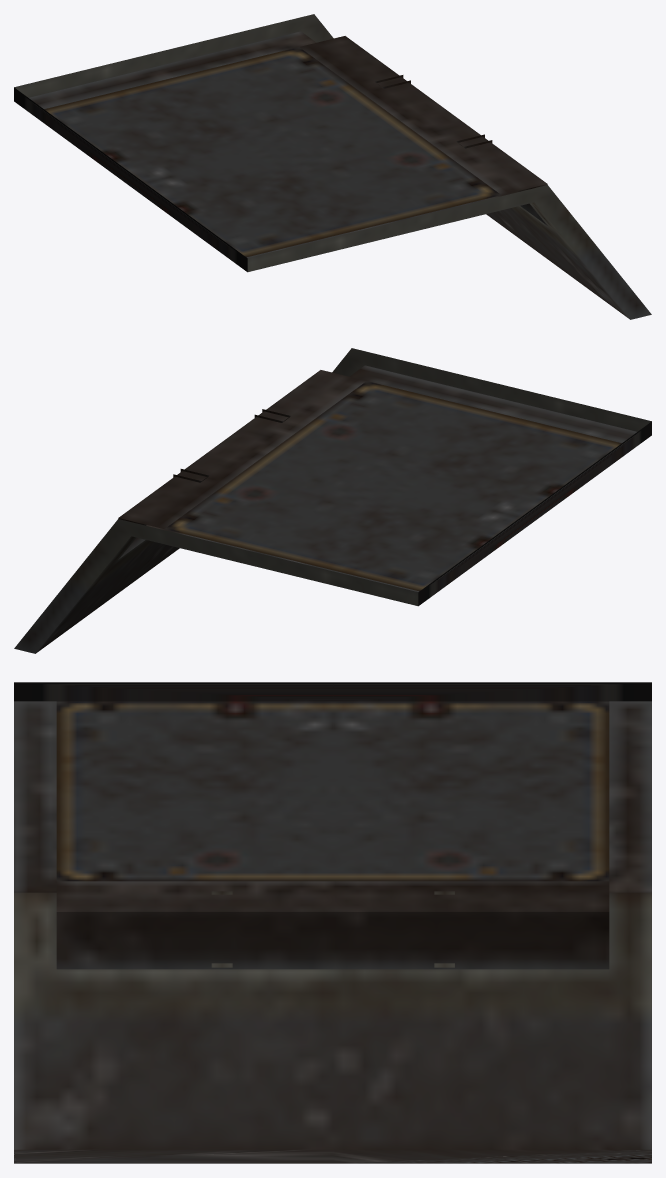
Rendered from Ceiling_internal_1.FBX.
3 renders of one model, top to bottom at view 1: azimuth 30°, elevation 25°; view 2: azimuth 150°, elevation 25°; view 3: azimuth 270°, elevation 25°, orthographic. The views are drawn at different scales.
Parts seen in each view (by area): view 1: Ceiling_internal_1; view 2: Ceiling_internal_1; view 3: Ceiling_internal_1.
Part boxes in pixels (x1=…): Ceiling_internal_1: x1=14, y1=14, x2=651, y2=319; Ceiling_internal_1: x1=14, y1=348, x2=651, y2=653; Ceiling_internal_1: x1=14, y1=682, x2=651, y2=1163.
Bounding box in the file's own units: 300 × 110 × 300.
